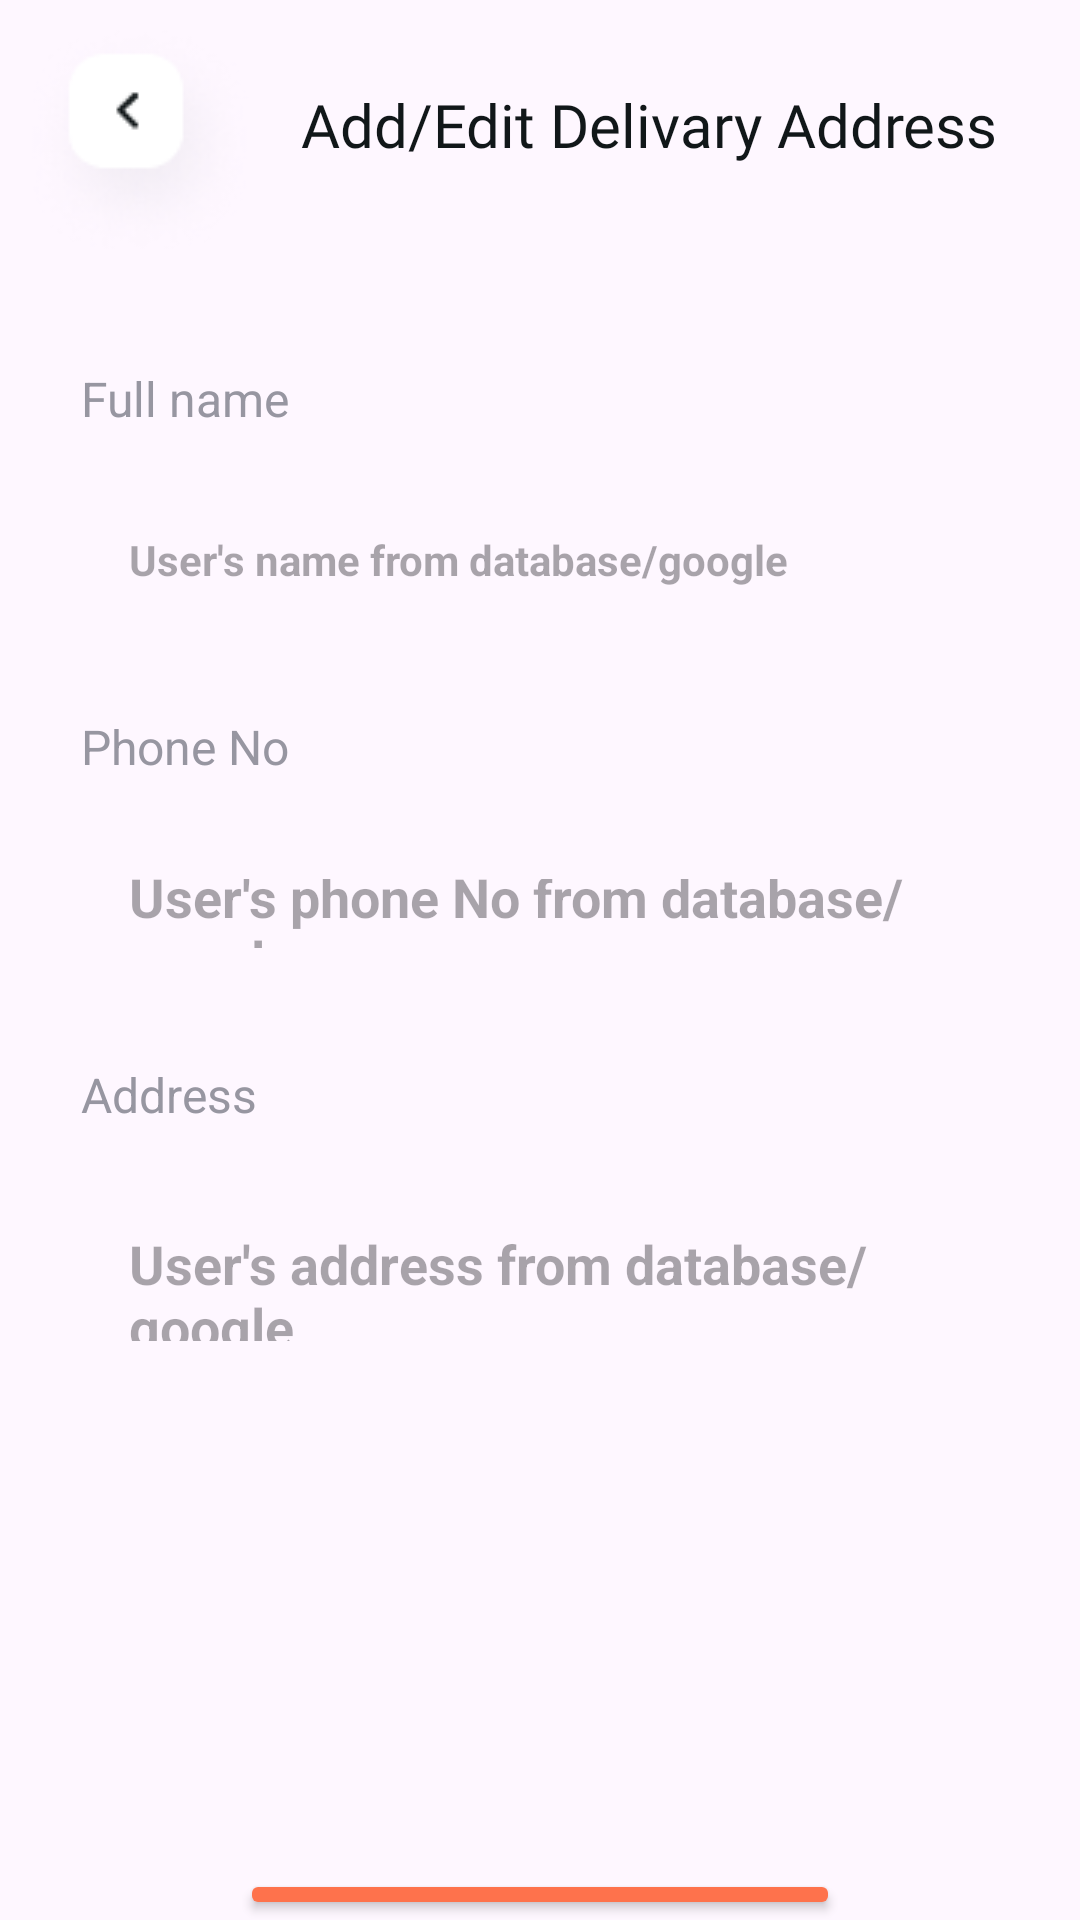

Point at icon controls on the screen. Image size 1080 × 1920, points as (x,y).
back: (127,111)
